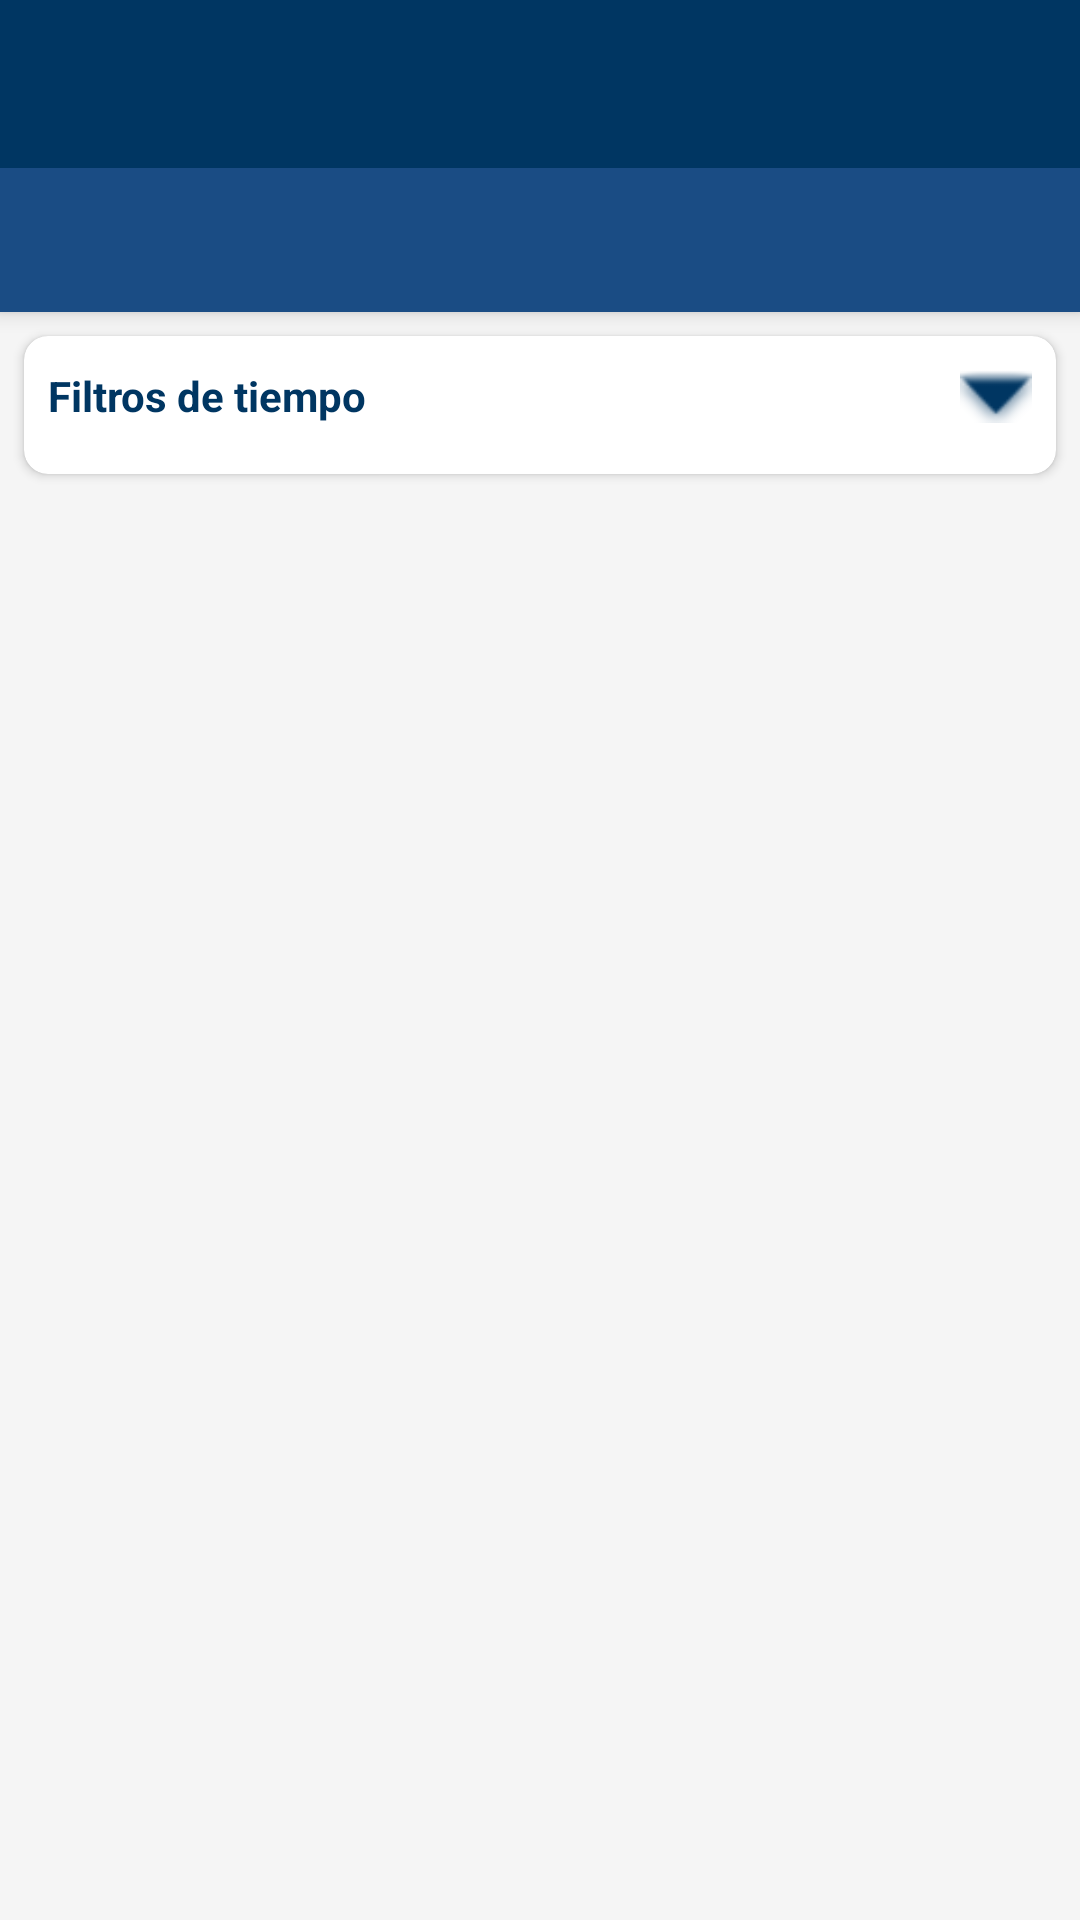

Locate icon controls on the screen. Image size 1080w x 1920h, boxes as (x1, y1, x2, y2).
Expandir/Colapsar filtros: (960, 372, 1032, 421)
